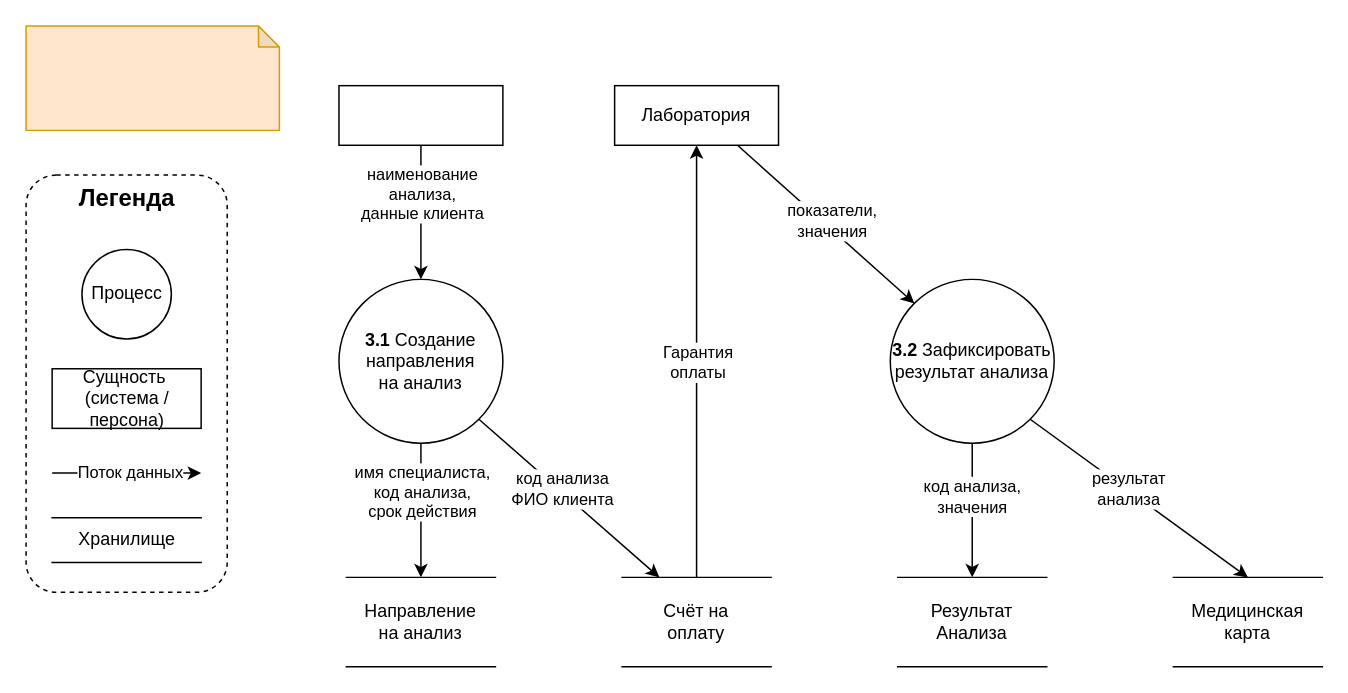
Image size: 1348x693. Some labels were removed from this diagram. Here are the shapes that lost their labels. From the top down, the centre of each, then its label:
At [152,77]: "Диаграмма потоков данных для процесса #3 - Управление анализами.".
At [420,114]: "Врач".
